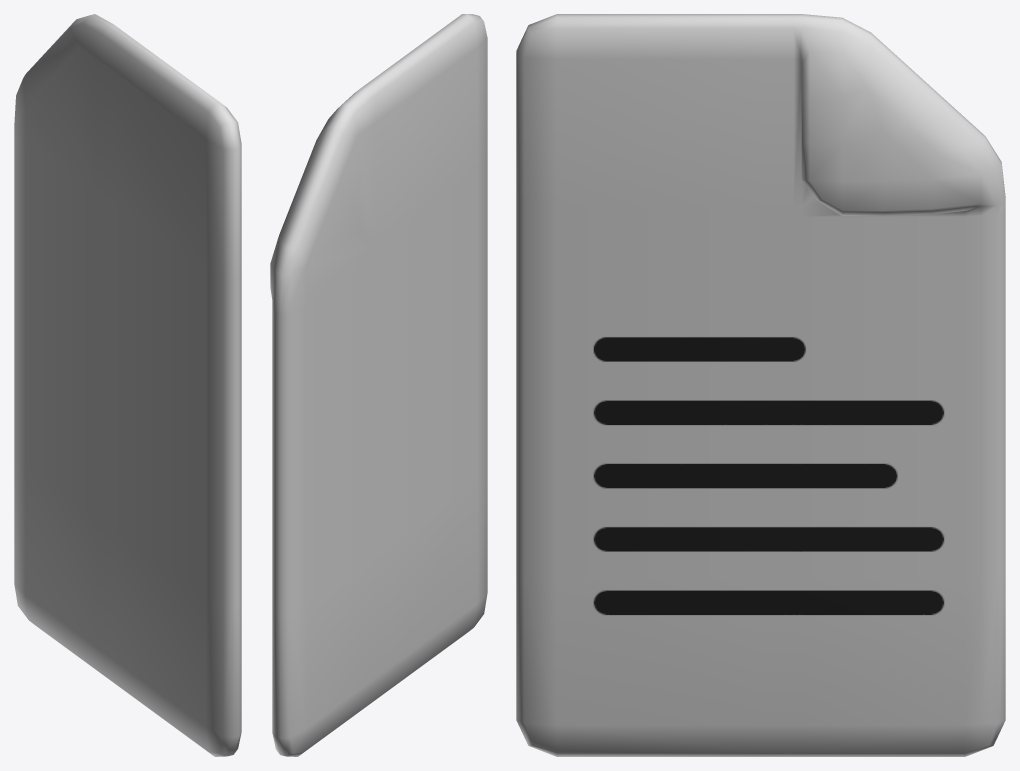
File: FileModel.fbx
3 renders of one model, left to right at view 1: azimuth 30°, elevation 25°; view 2: azimuth 150°, elevation 25°; view 3: azimuth 270°, elevation 25°, orthographic. The views are drawn at different scales.
Parts seen in each view (by area): view 1: Cube; view 2: Cube; view 3: Cube.
Boxes of the visible parts, <box> form: Cube: <box>14,14,241,756</box>; Cube: <box>270,14,487,756</box>; Cube: <box>516,14,1005,756</box>.
Bounding box in the file's own units: 120 × 14 × 200.
1 material, 1 textured.
